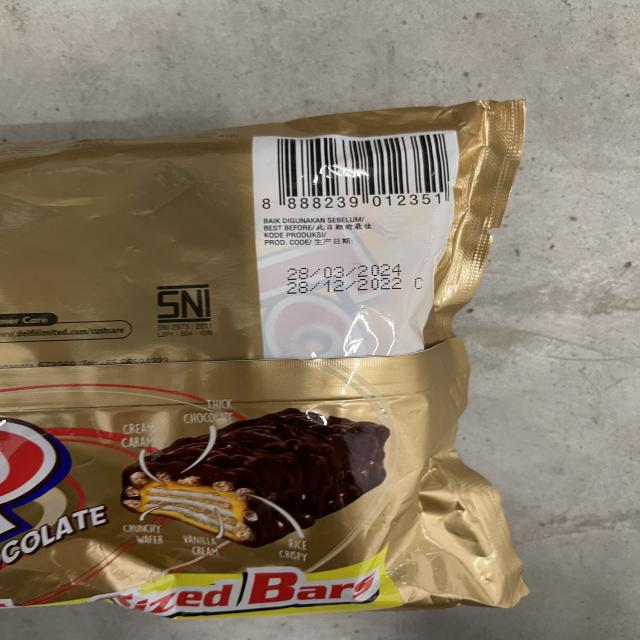object_name: (8, 137, 491, 612)
